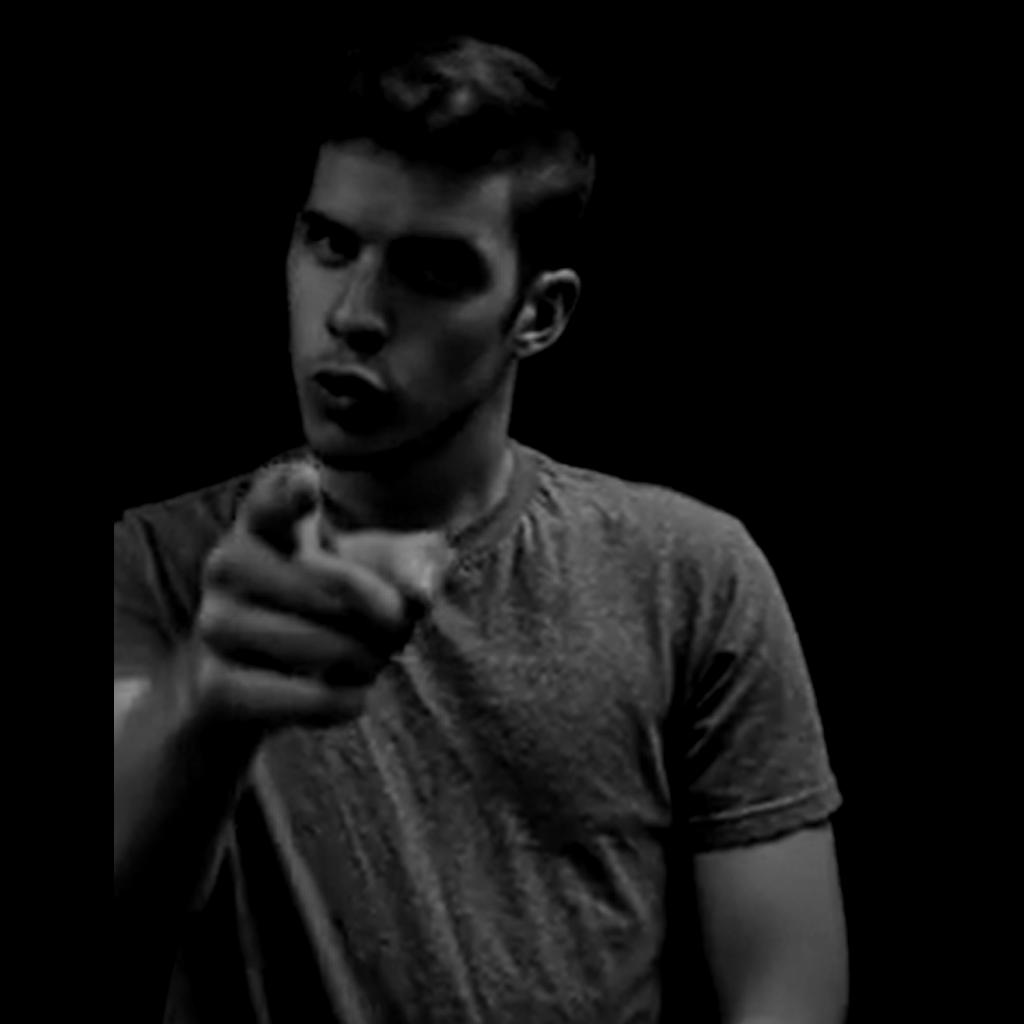you: (196, 462, 450, 726)
